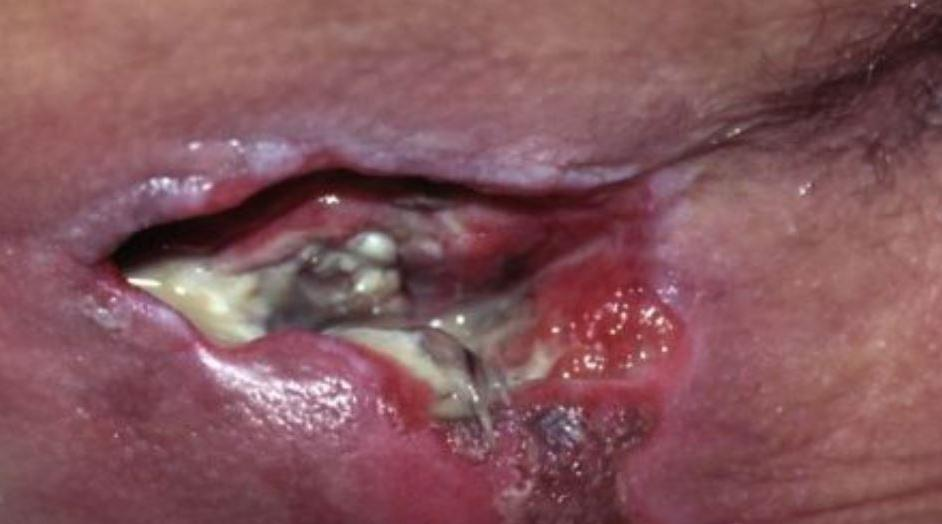Stage4: (51, 136, 713, 524)
